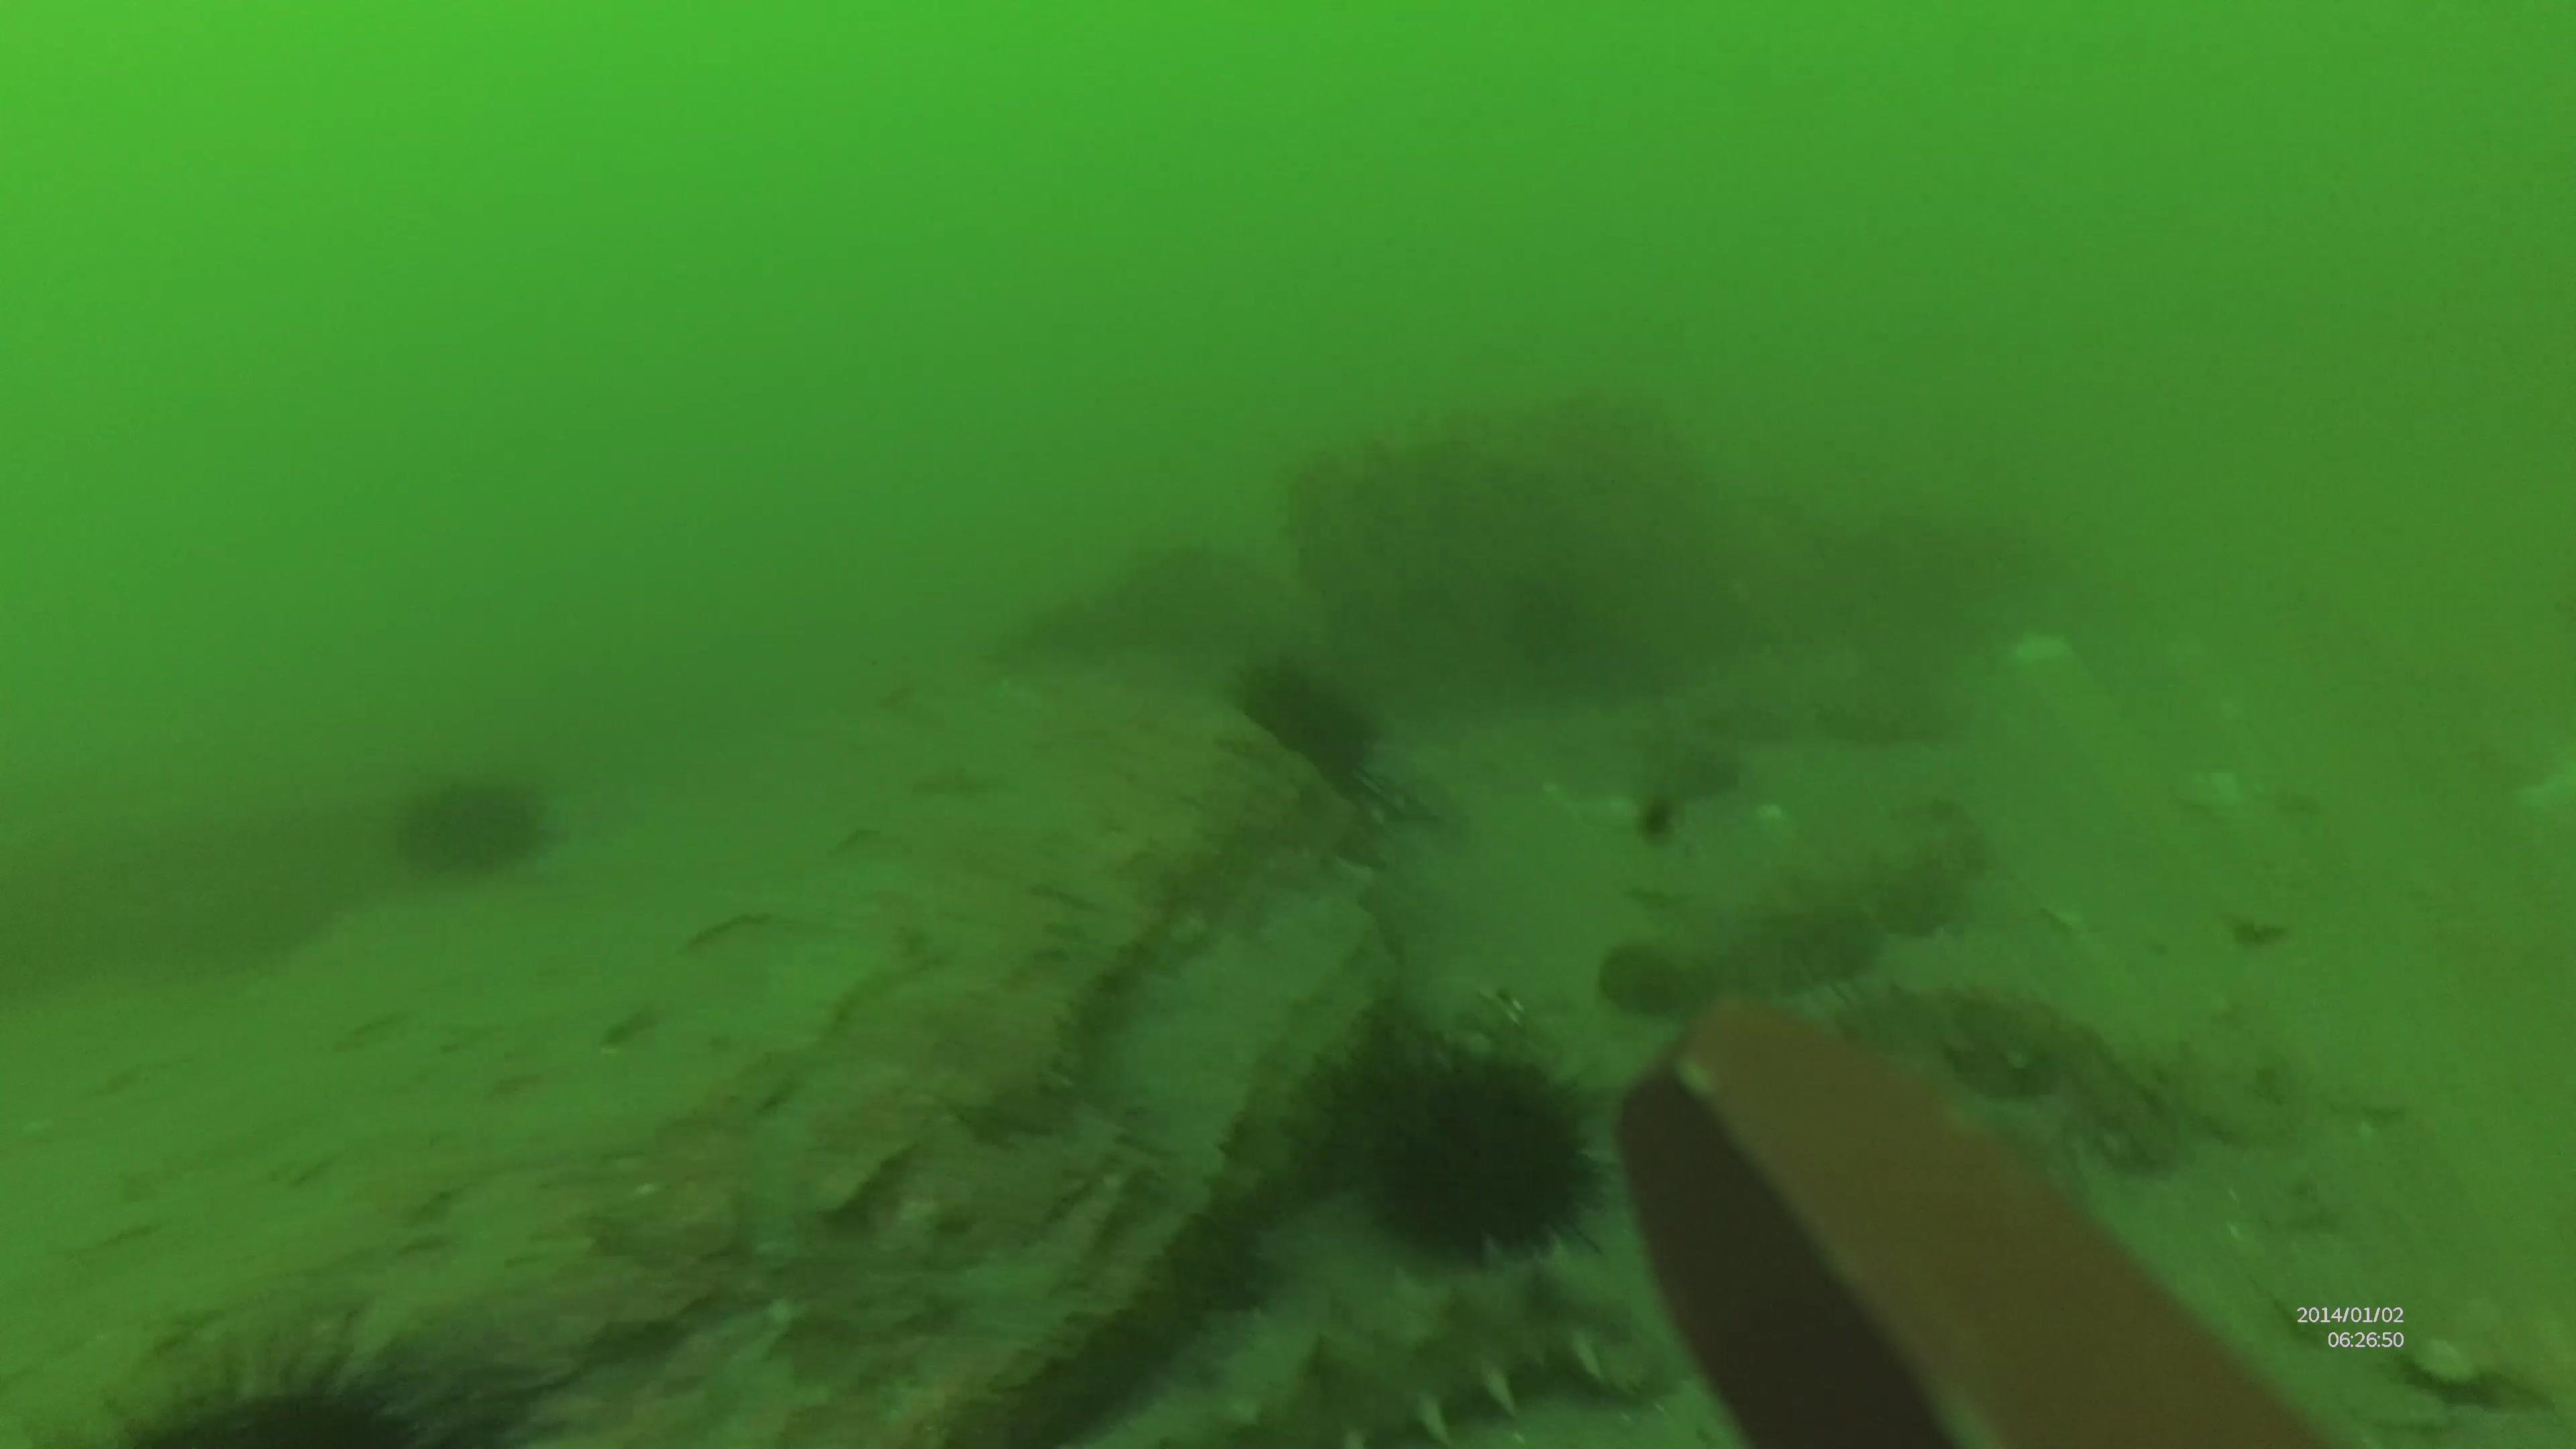echinus: (1300, 1014, 1603, 1269), (83, 1320, 552, 1449), (393, 770, 545, 893), (1242, 658, 1380, 770)
holothurian: (1224, 1279, 1688, 1442), (1833, 989, 2183, 1178)
